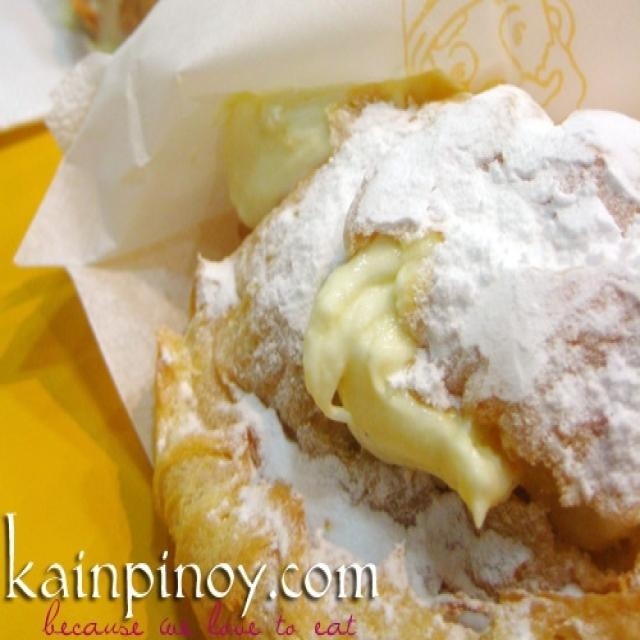炸货点心: (15, 6, 635, 636)
蛋糕甜品: (15, 6, 635, 636)
